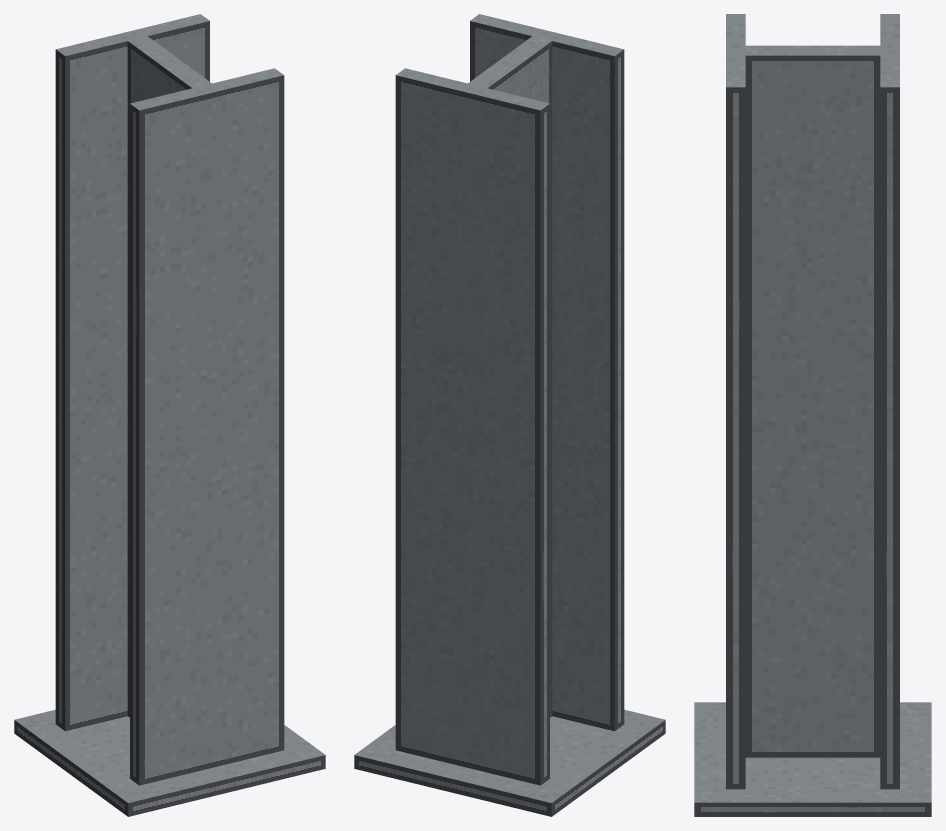
Rendered from t_support_l.glb.
The picture shows the model from 3 angles, left to right: view 1: azimuth 30°, elevation 25°; view 2: azimuth 150°, elevation 25°; view 3: azimuth 270°, elevation 25°; orthographic projection. The views are drawn at different scales.
Parts seen in each view (by area): view 1: block_flange0.17, block_flange-0.22, block_base, block_web; view 2: block_flange-0.22, block_flange0.17, block_base, block_web; view 3: block_web, block_base, block_flange-0.22, block_flange0.17.
Part boxes in pixels (x1,y1,x2,y2): block_flange0.17: [130, 68, 284, 785]; block_flange-0.22: [55, 14, 209, 731]; block_base: [14, 709, 325, 816]; block_web: [127, 36, 211, 717]; block_flange-0.22: [395, 68, 549, 785]; block_flange0.17: [470, 14, 624, 731]; block_base: [354, 709, 665, 816]; block_web: [468, 36, 552, 717]; block_web: [745, 45, 880, 757]; block_base: [694, 702, 931, 816]; block_flange-0.22: [880, 14, 899, 789]; block_flange0.17: [726, 14, 745, 789].
Bounding box in the file's own units: 0.6 × 2 × 0.6.
1 material, 1 textured.
